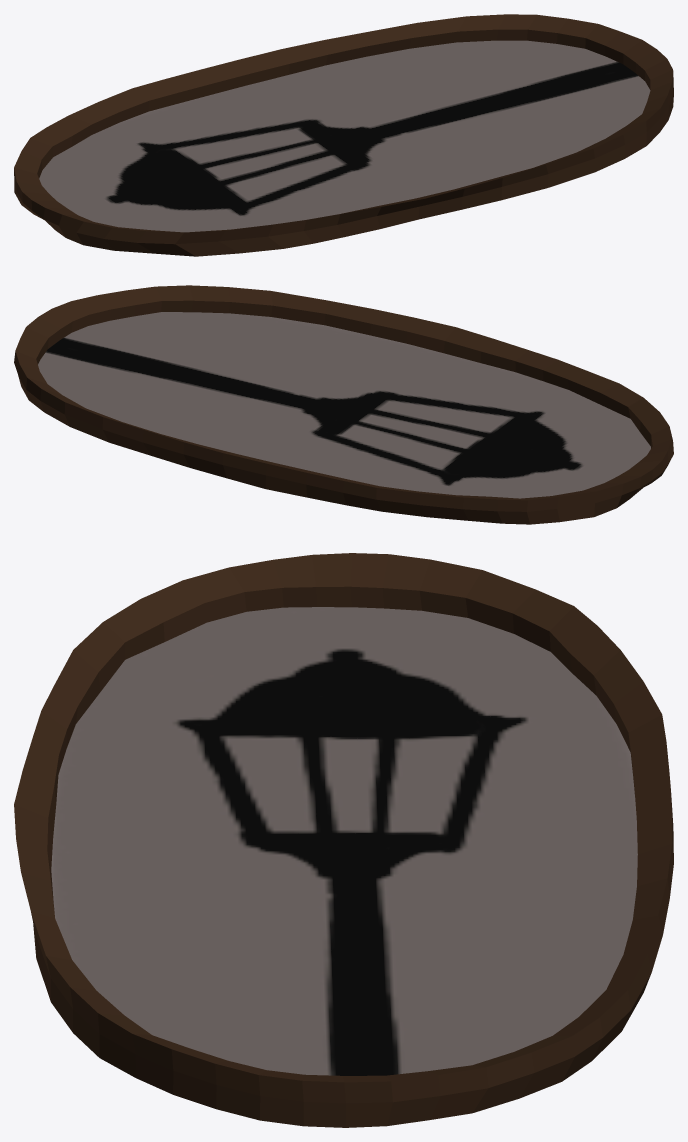
Rendered from OvalFrame3.fbx.
The picture shows the model from 3 angles, top to bottom: view 1: azimuth 30°, elevation 25°; view 2: azimuth 150°, elevation 25°; view 3: azimuth 270°, elevation 25°; orthographic projection. The views are drawn at different scales.
Parts seen in each view (by area): view 1: OvalFrame3; view 2: OvalFrame3; view 3: OvalFrame3.
Part boxes in pixels (x1,y1,x2,y2): OvalFrame3: [14, 14, 673, 256]; OvalFrame3: [14, 285, 673, 524]; OvalFrame3: [14, 553, 673, 1127].
Size of the model in its own units: 437 by 17.09 by 230.
